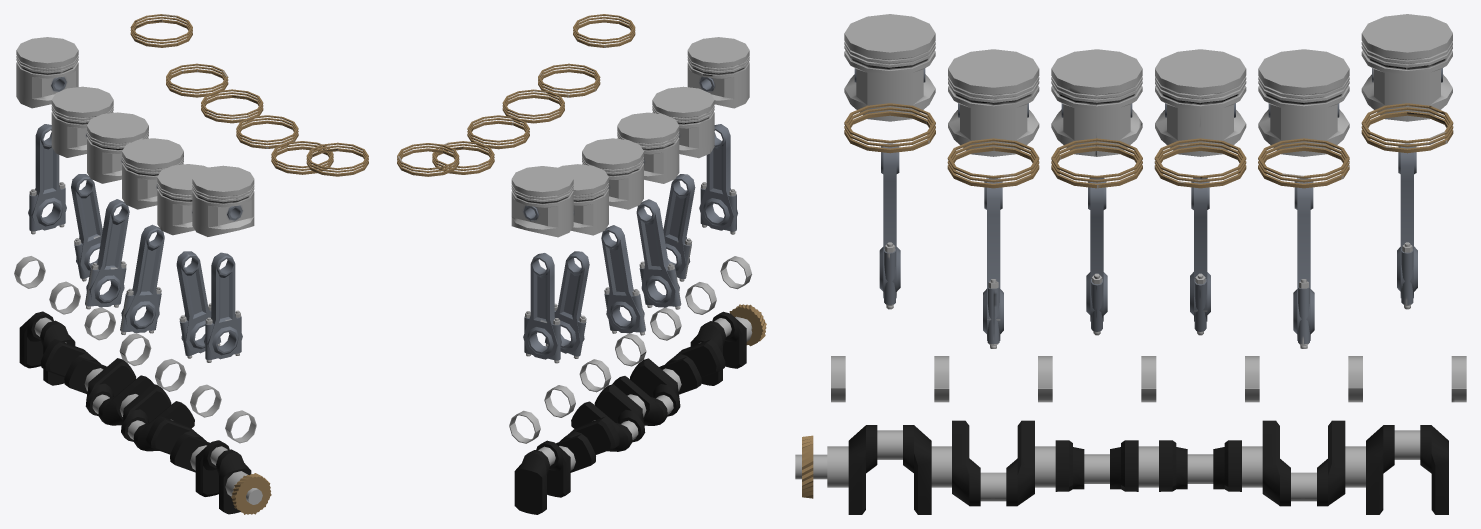
The model's file is tcc-fundamentos-rotativo.glb.
3 views of the same model, side by side, from view 1: azimuth 30°, elevation 25°; view 2: azimuth 150°, elevation 25°; view 3: azimuth 270°, elevation 25° (orthographic). The views are drawn at different scales.
Parts seen in each view (by area): view 1: pistao, biela, virabrequim, aneis, bronzinas; view 2: pistao, biela, virabrequim, aneis, bronzinas; view 3: pistao, virabrequim, biela, aneis, bronzinas.
Boxes of the visible parts, box(x1,y1,x2,y2) form: pistao: box(16, 37, 254, 236); biela: box(28, 124, 242, 362); virabrequim: box(19, 311, 271, 514); aneis: box(130, 14, 368, 176); bronzinas: box(14, 256, 256, 443); pistao: box(511, 37, 749, 237); biela: box(523, 124, 737, 363); virabrequim: box(514, 304, 766, 514); aneis: box(397, 14, 635, 176); bronzinas: box(509, 256, 751, 443); pistao: box(844, 14, 1452, 156); virabrequim: box(795, 420, 1448, 514); biela: box(879, 143, 1417, 348); aneis: box(844, 103, 1453, 188); bronzinas: box(831, 356, 1466, 402).
Bounding box in the file's own units: 0.3043 × 0.5412 × 0.6916.
Materials: 1 (1 with a texture image).
